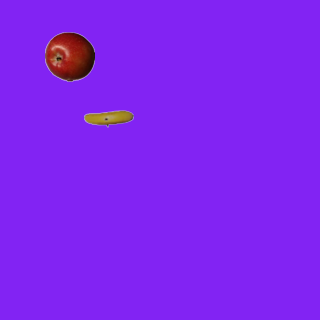Apple Braeburn: (44, 31, 94, 81)
Banana: (83, 93, 133, 143)
